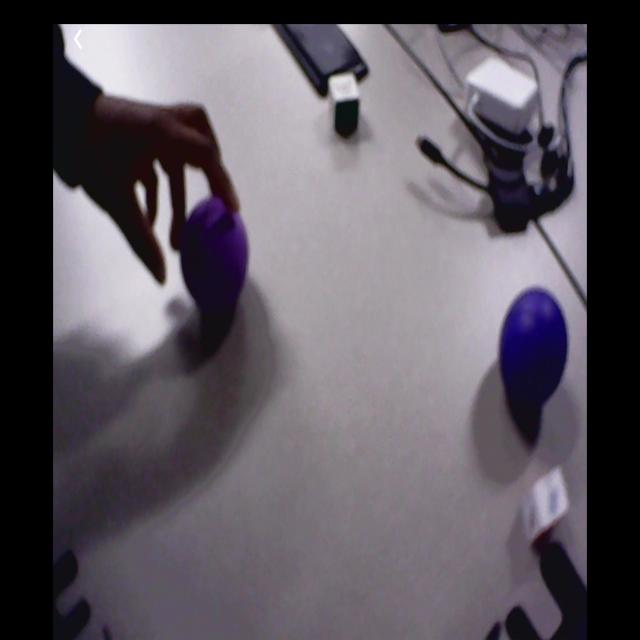ball: (182, 200, 249, 311), (500, 291, 569, 394)
